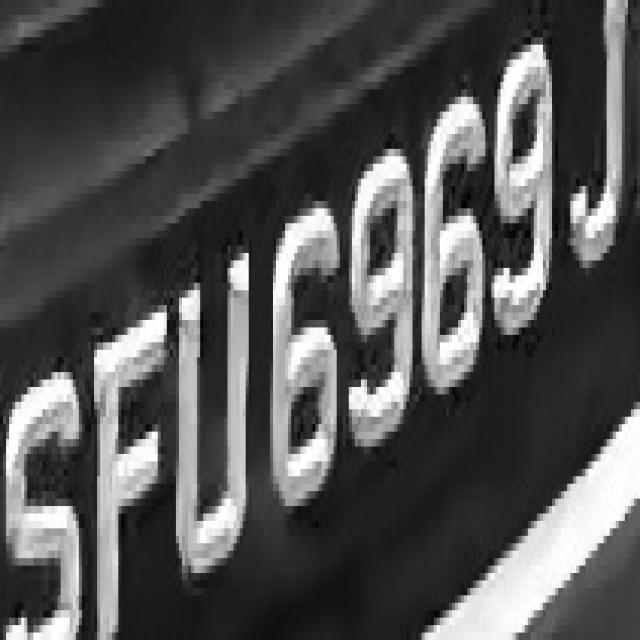6: (261, 194, 346, 528), (418, 97, 492, 409)
9: (339, 142, 418, 476), (486, 38, 568, 342)
F: (94, 276, 170, 610)
J: (570, 8, 622, 290)
U: (167, 231, 258, 588)
